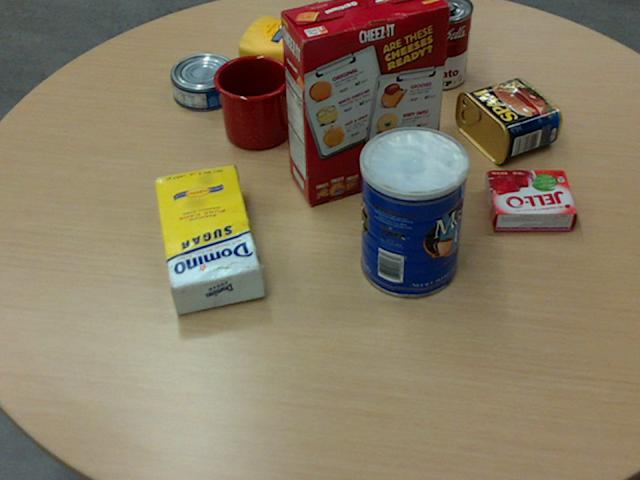cracker_box: (280, 0, 450, 203)
gelatin_box: (486, 168, 576, 229)
large_marker: (388, 29, 407, 119)
master_chef_can: (359, 126, 468, 298)
mug: (213, 54, 310, 149)
mustard_bottle: (238, 14, 387, 87)
potted_meat_can: (454, 77, 561, 164)
sugar_box: (152, 163, 263, 314)
tomato_soup_can: (416, 0, 473, 88)
tuna_fish_can: (169, 51, 238, 109)
